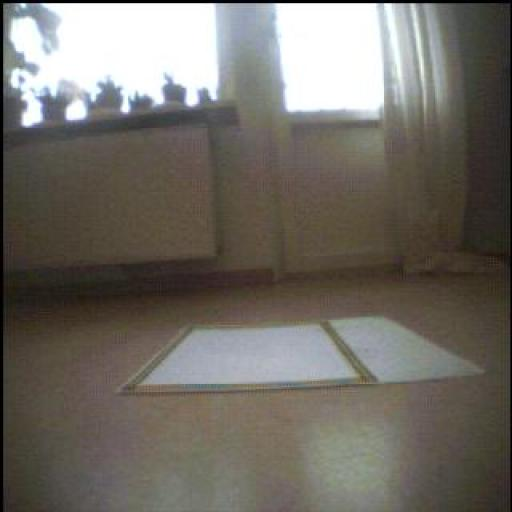Pad: (121, 318, 484, 395)
